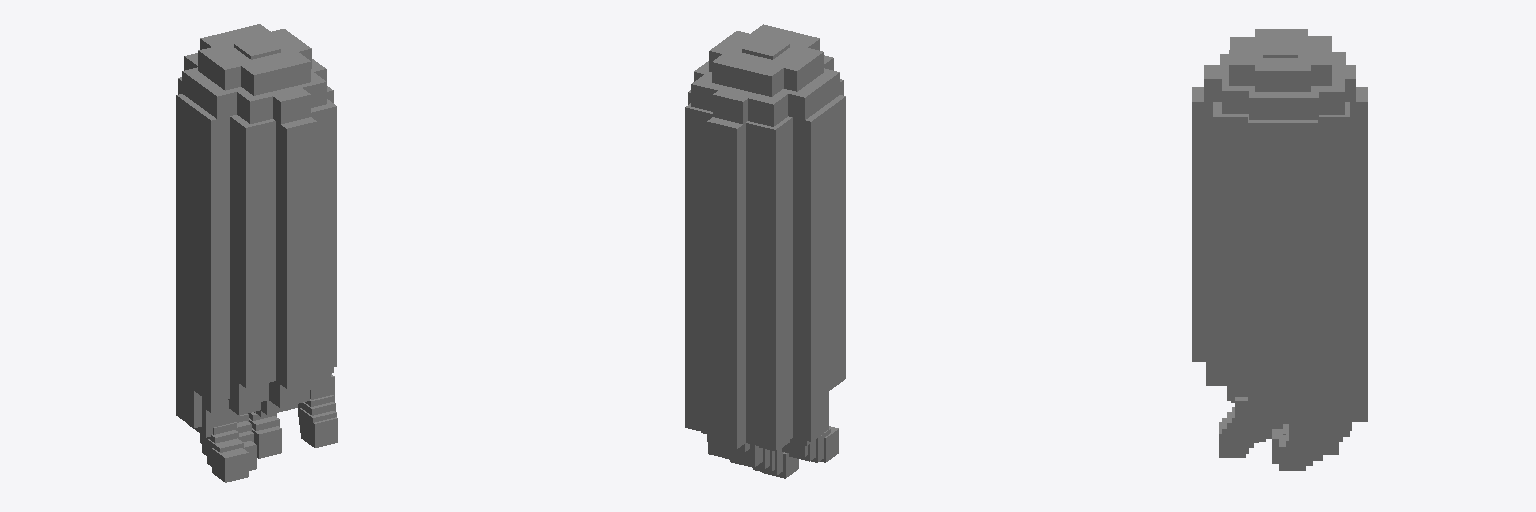
File: brazo_Izq.obj
The picture shows the model from 3 angles: view 1: azimuth 30°, elevation 25°; view 2: azimuth 150°, elevation 25°; view 3: azimuth 270°, elevation 25°; orthographic projection.
Parts seen in each view (by area): view 1: Box1896; view 2: Box1896; view 3: Box1896.
Part boxes in pixels (x1,y1,x2,y2): Box1896: (176, 24, 337, 482); Box1896: (685, 24, 845, 478); Box1896: (1192, 29, 1367, 470).
Size of the model in its own units: 0.7969 by 2.6 by 0.985.